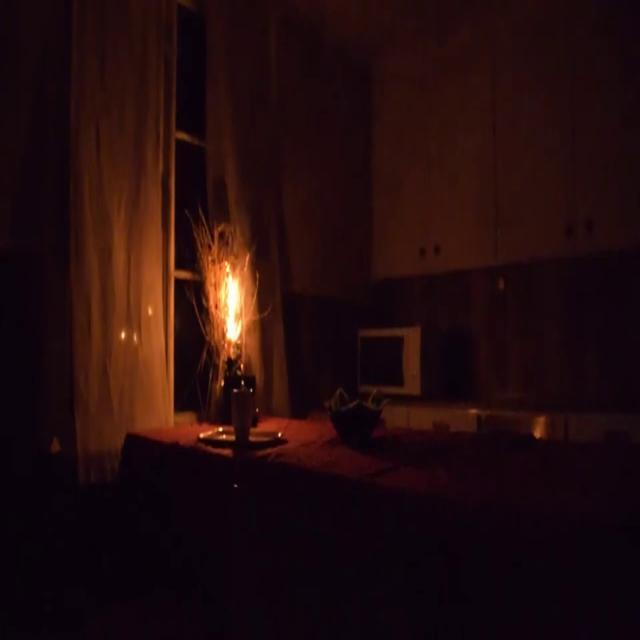Fire: (216, 253, 248, 354)
